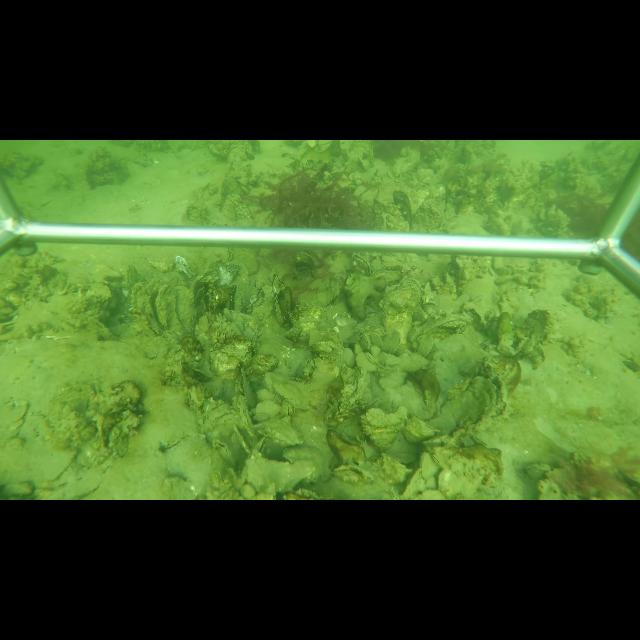Oyster-Closed: (239, 454, 319, 494), (378, 277, 421, 341), (325, 367, 367, 421), (359, 406, 406, 449), (262, 372, 313, 410), (416, 314, 469, 338), (170, 284, 194, 333), (221, 193, 253, 220), (399, 468, 422, 498), (372, 262, 404, 283), (419, 451, 439, 482), (354, 354, 376, 371), (360, 332, 372, 350), (370, 333, 384, 347), (383, 336, 393, 354), (399, 347, 412, 355)
Oyster-Open: (466, 367, 511, 419), (145, 288, 167, 332), (332, 462, 372, 484), (352, 253, 372, 272)
